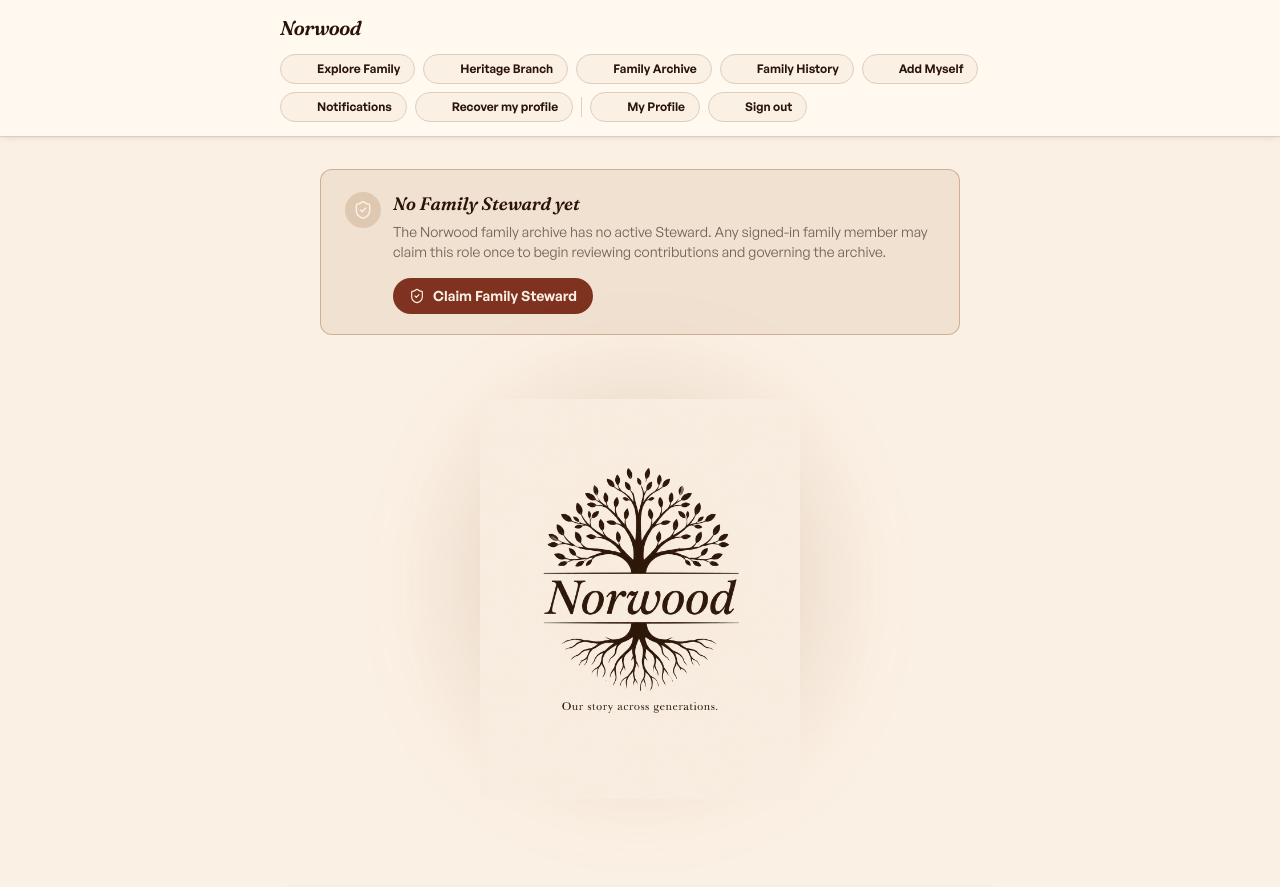
Test: My Profile routes by claim state › routes to Add Myself when the account has no connected profile
Click the button with test id "layout.my_profile_link": (645, 107) [590, 92, 700, 122]
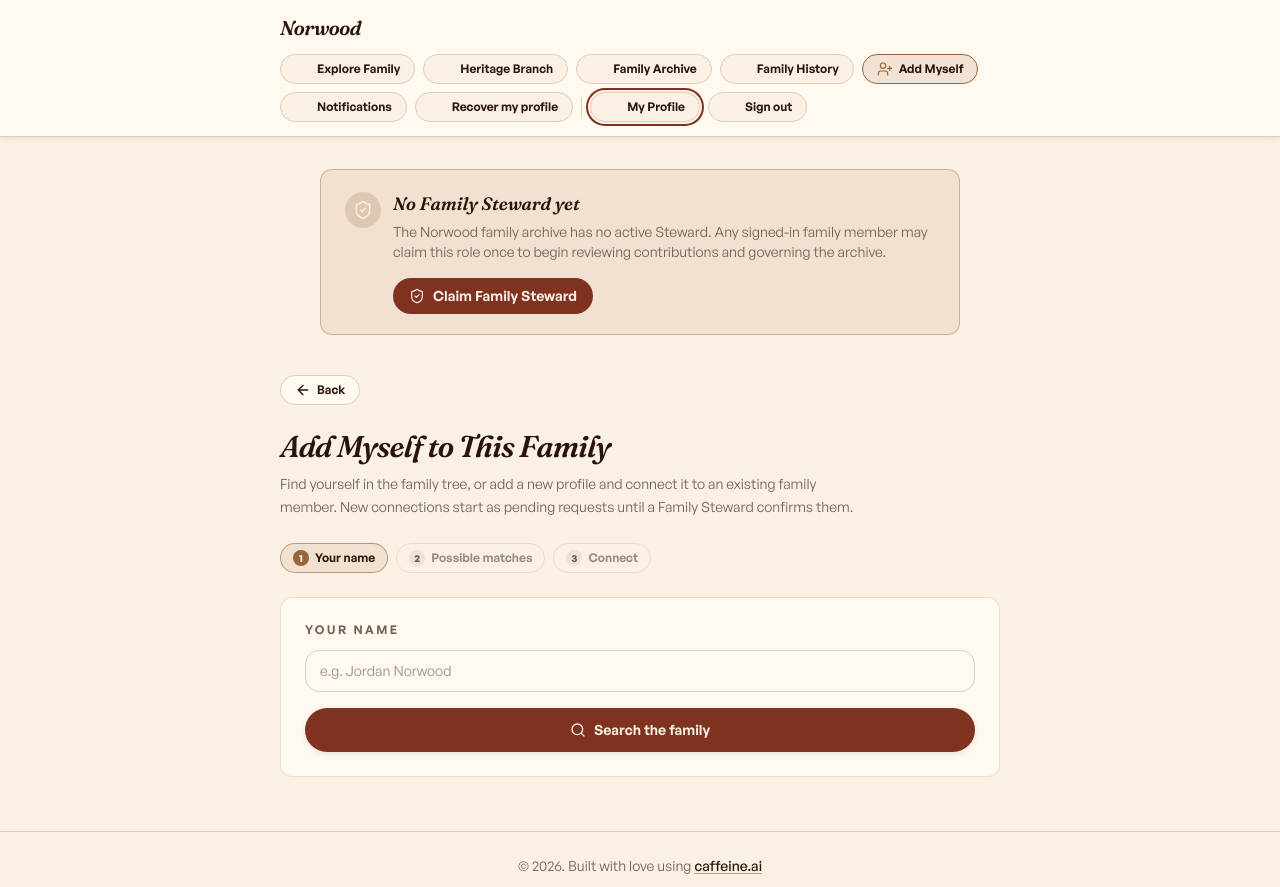
Expected: the field with test id "add_myself.name_input" is shown, [305, 650, 975, 692]
